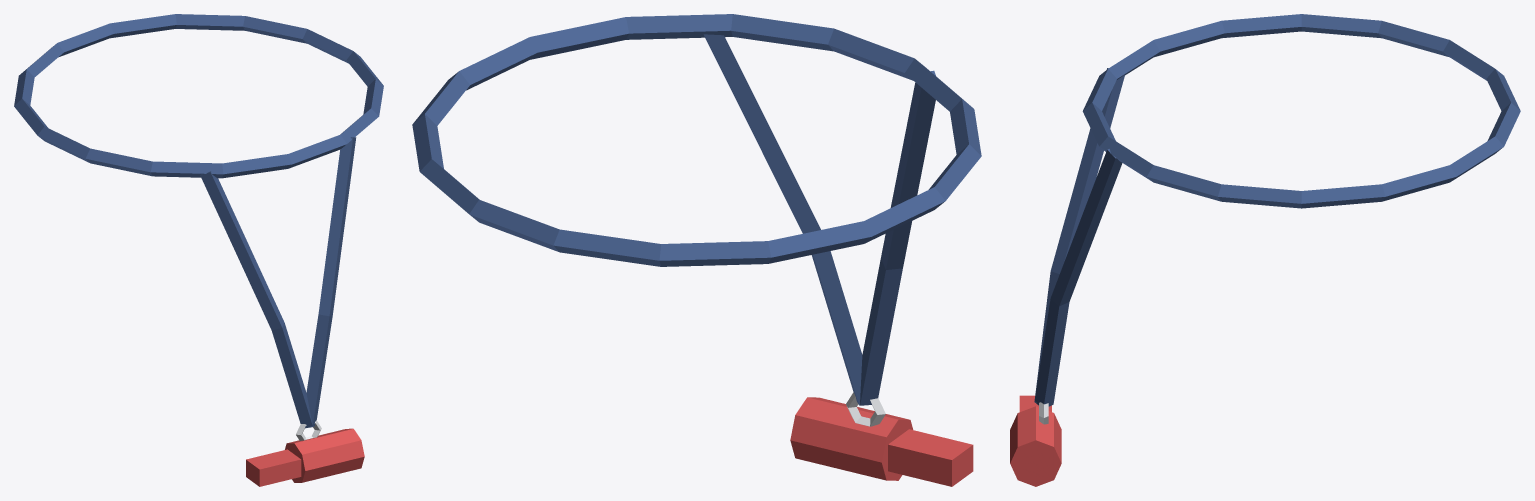
The model's file is CR_Silbato.fbx.
The picture shows the model from 3 angles, left to right: view 1: azimuth 30°, elevation 25°; view 2: azimuth 150°, elevation 25°; view 3: azimuth 270°, elevation 25°; orthographic projection. The views are drawn at different scales.
Visible parts, largest first — view 1: CR_Silbato; view 2: CR_Silbato; view 3: CR_Silbato.
Boxes of the visible parts, bbox=[...] form: CR_Silbato: bbox=[14, 14, 383, 486]; CR_Silbato: bbox=[412, 14, 981, 486]; CR_Silbato: bbox=[1010, 14, 1520, 486].
Size of the model in its own units: 0.272 by 0.247 by 0.317.
